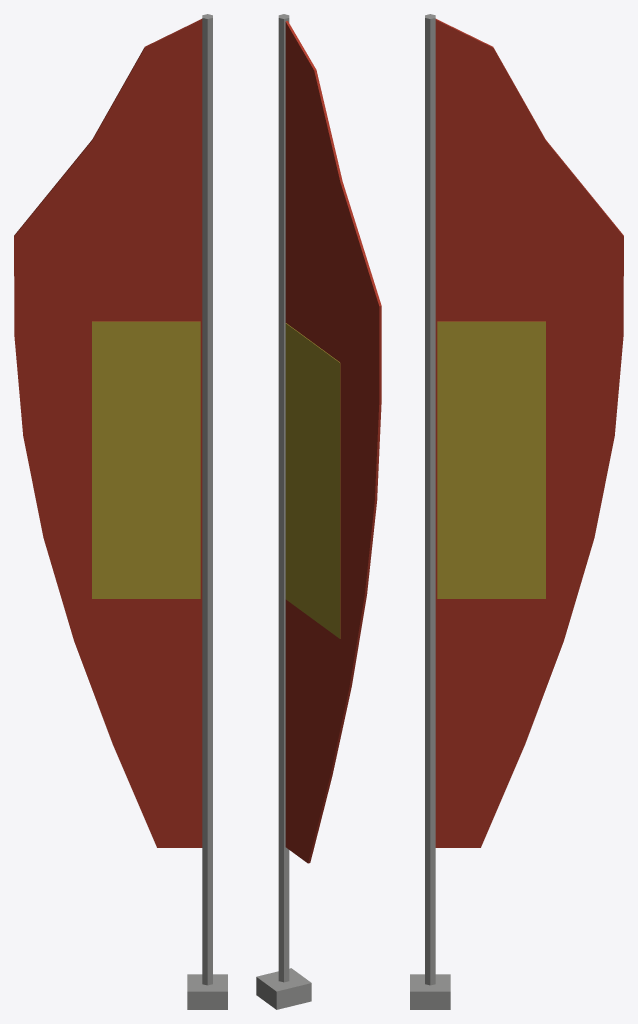
Rendered from SM_Prop_road_flag_0.glb.
The picture shows the model from 3 angles, left to right: view 1: azimuth 90°, elevation 25°; view 2: azimuth 210°, elevation 25°; view 3: azimuth 270°, elevation 25°; orthographic projection.
Visible parts, largest first — view 1: SM_Prop_road_flag_0; view 2: SM_Prop_road_flag_0; view 3: SM_Prop_road_flag_0.
Part boxes in pixels (bbox=[...]): SM_Prop_road_flag_0: bbox=[14, 14, 227, 1009]; SM_Prop_road_flag_0: bbox=[256, 14, 381, 1009]; SM_Prop_road_flag_0: bbox=[410, 14, 623, 1009].
Bounding box in the file's own units: 0.12 × 3.2 × 0.63.
